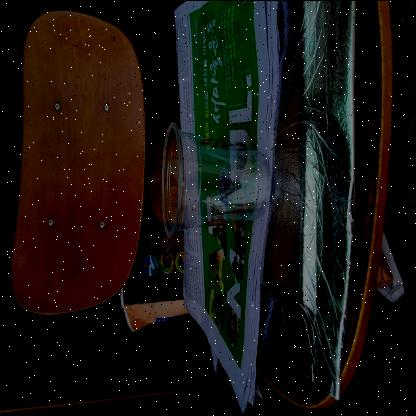Others: (154, 118, 272, 242)
